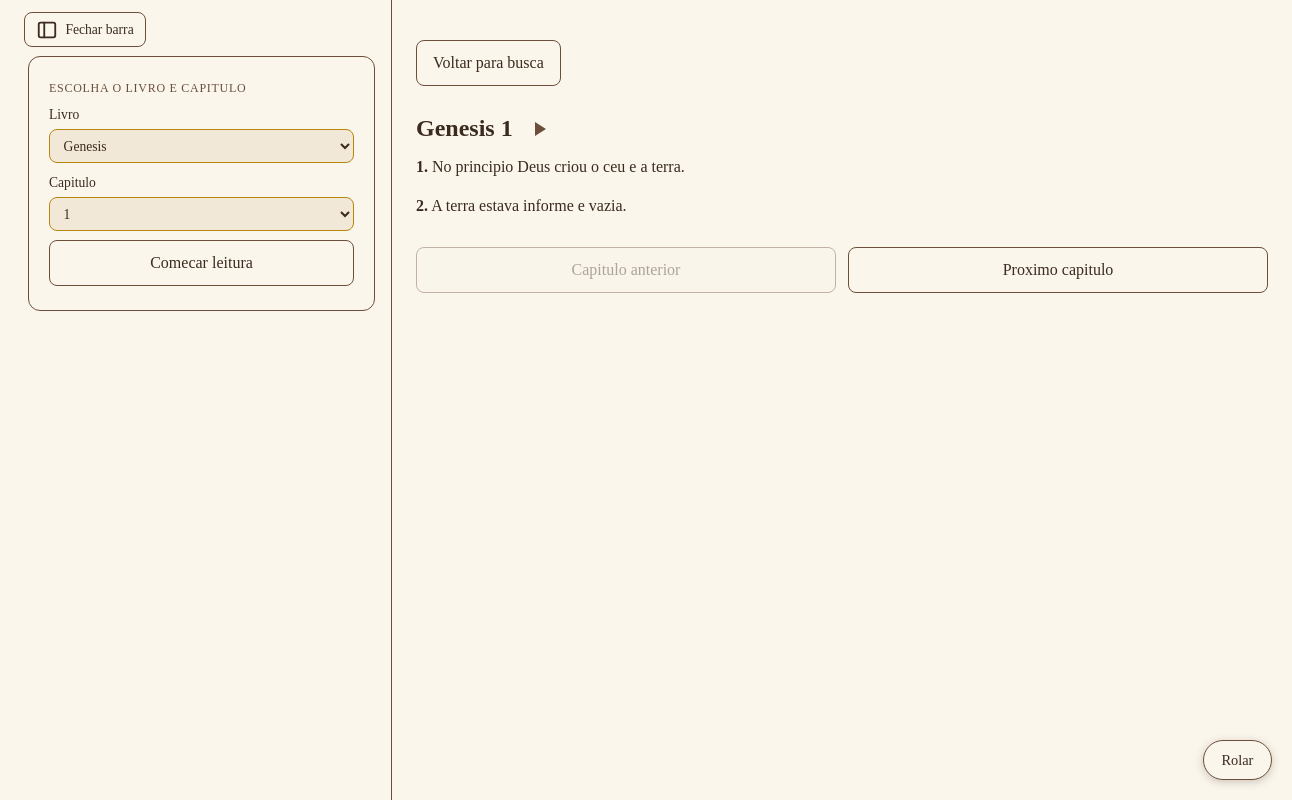
Leitura › Comecar leitura navega com o livro codificado na URL
The width and height of the screenshot is (1292, 800).
Select "São Lucas" in the dropdown labelled "Livro": (202, 146) [49,129,354,163]
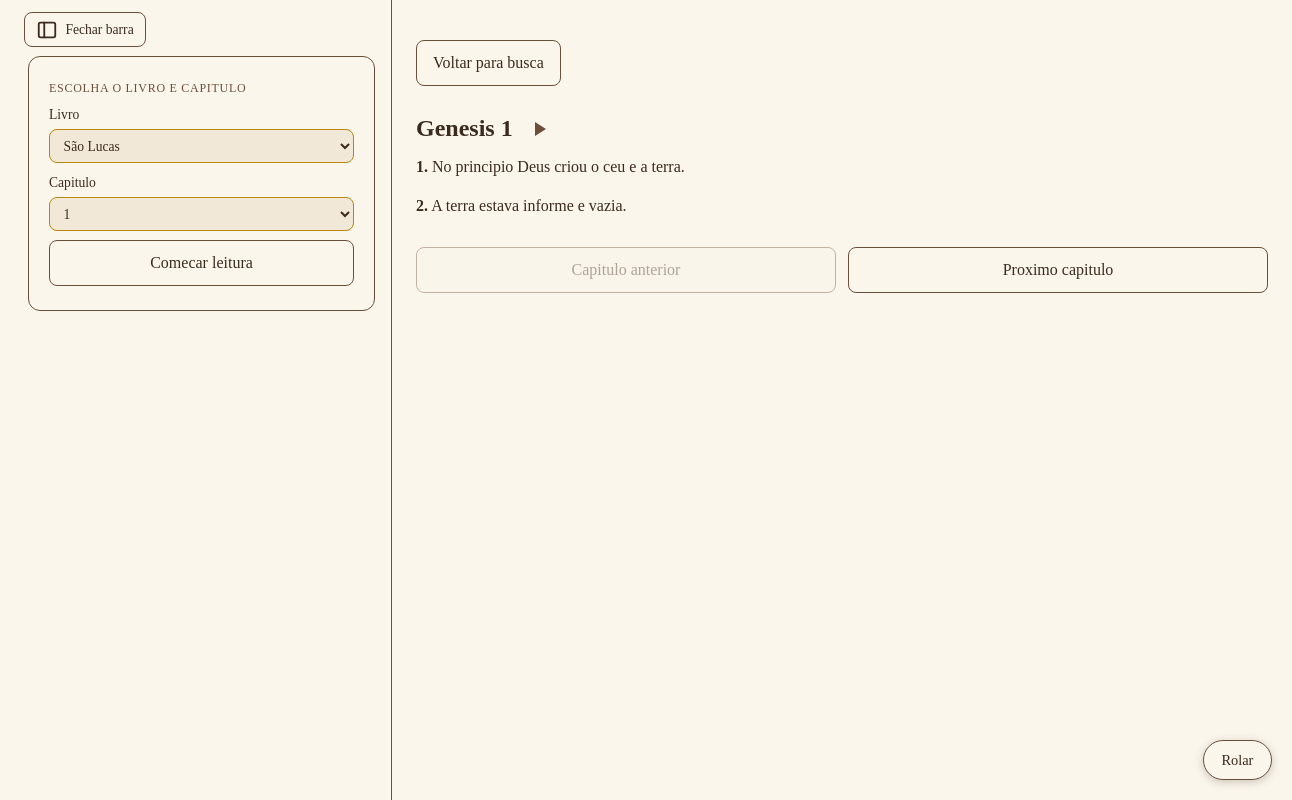
Select "11" in the dropdown labelled "Capitulo": (202, 214) [49,198,354,231]
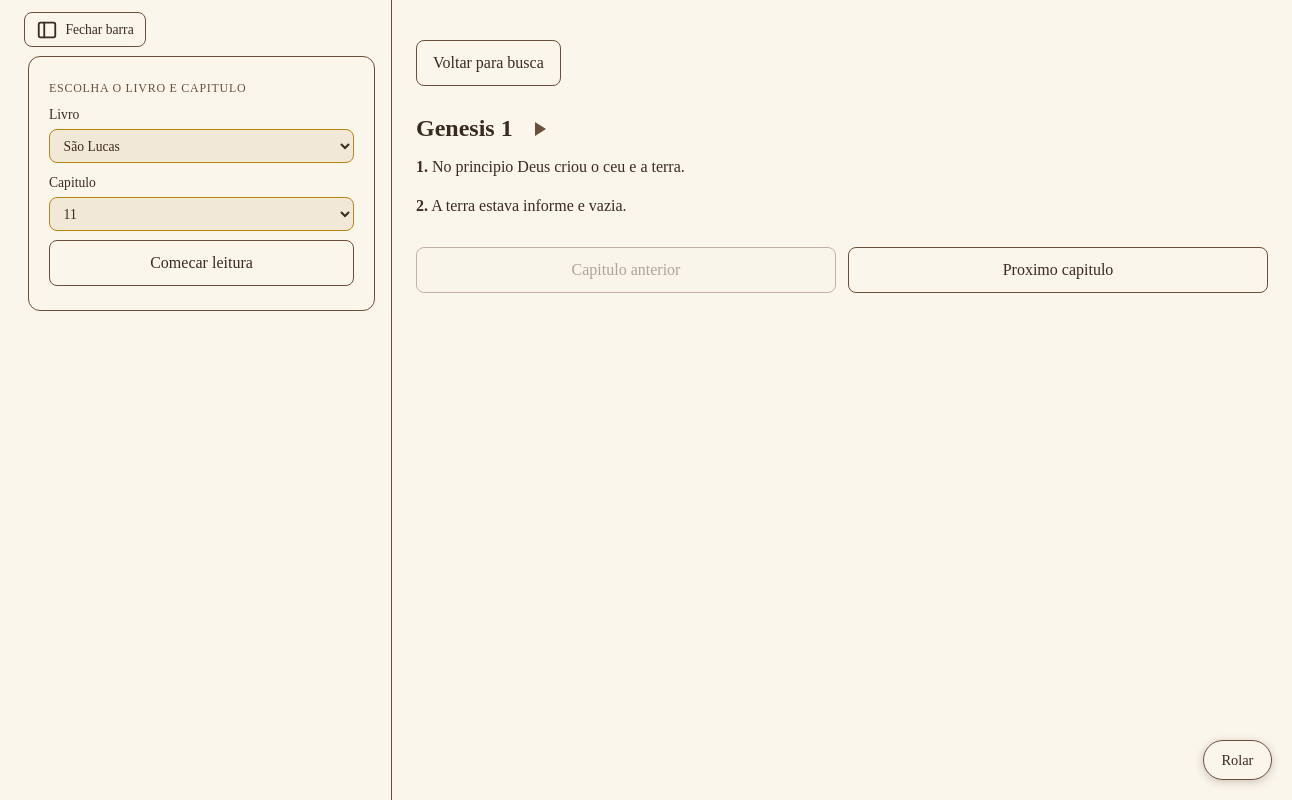
Click the button "Comecar leitura": (202, 263) [49,240,354,286]
(page scrolled)
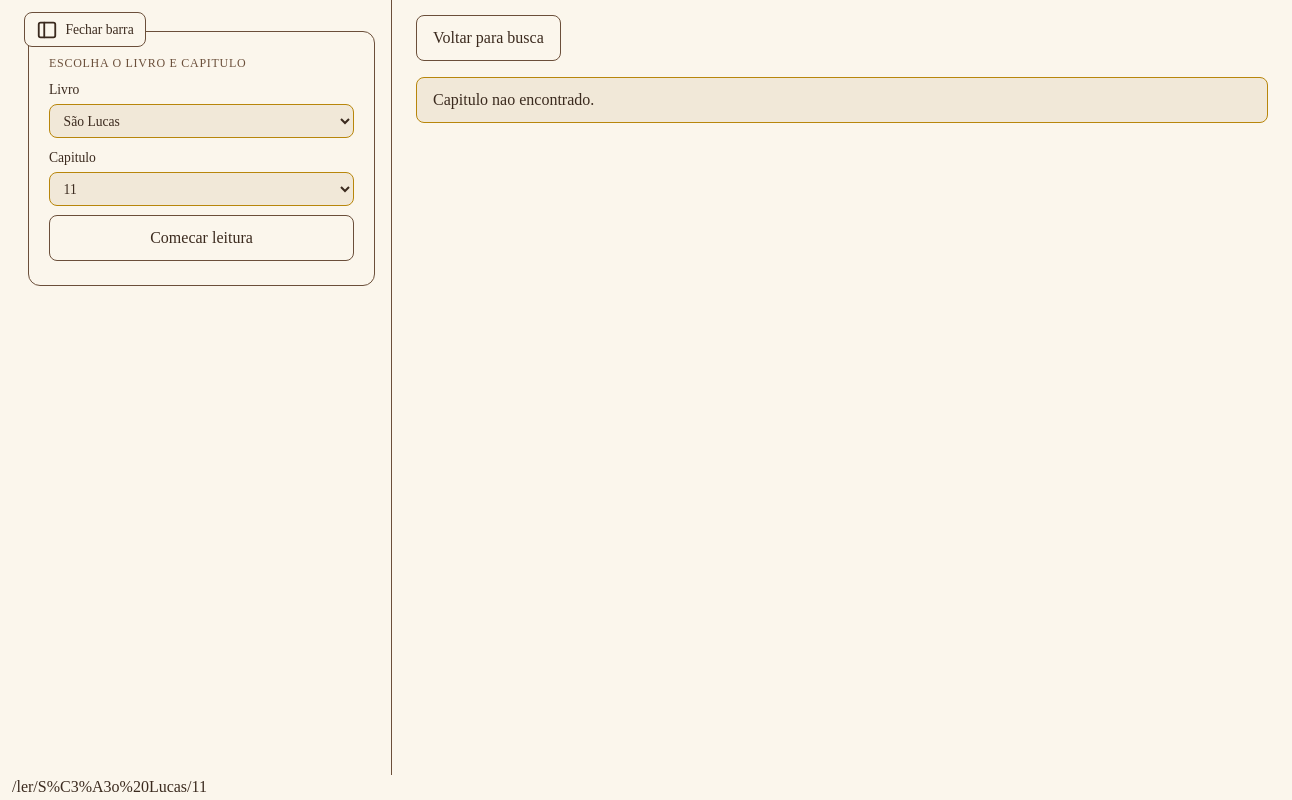
Expected: the text with test id "local" reads "/ler/S%C3%A3o%20Lucas/11", [12,778,207,795]
